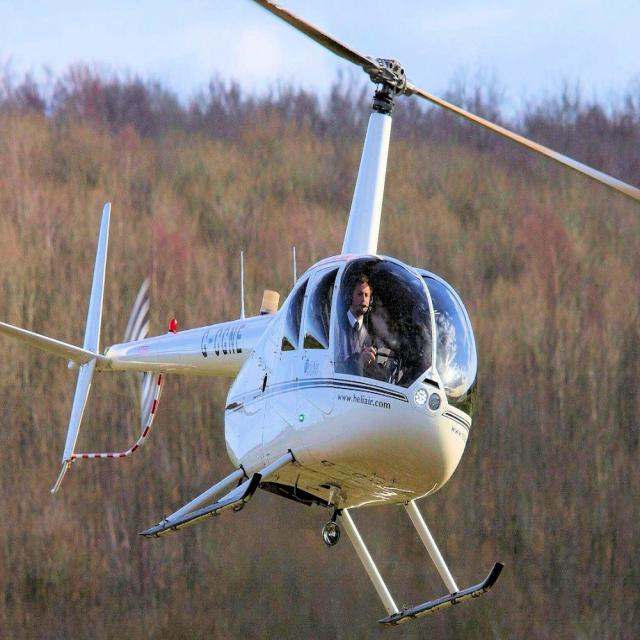helicopter: (1, 1, 640, 633)
